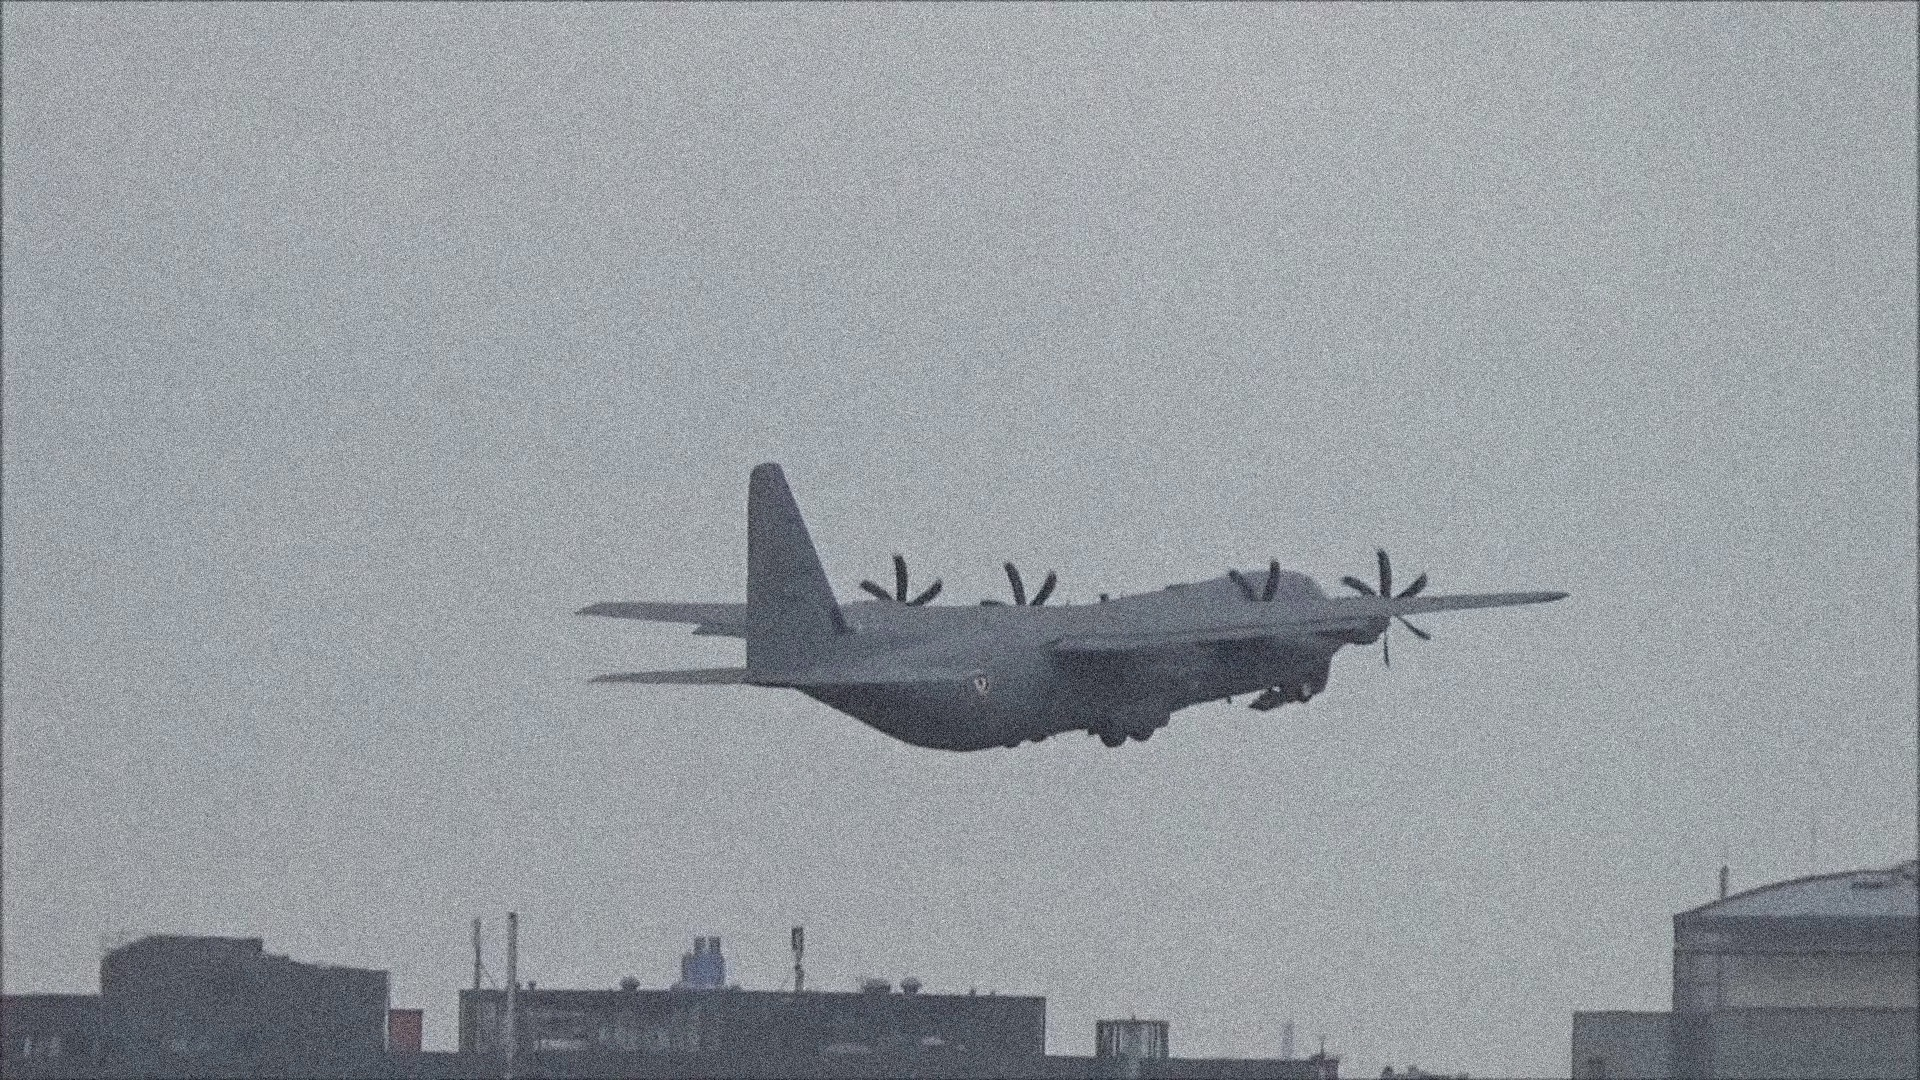Airplane: (566, 468, 1569, 750)
